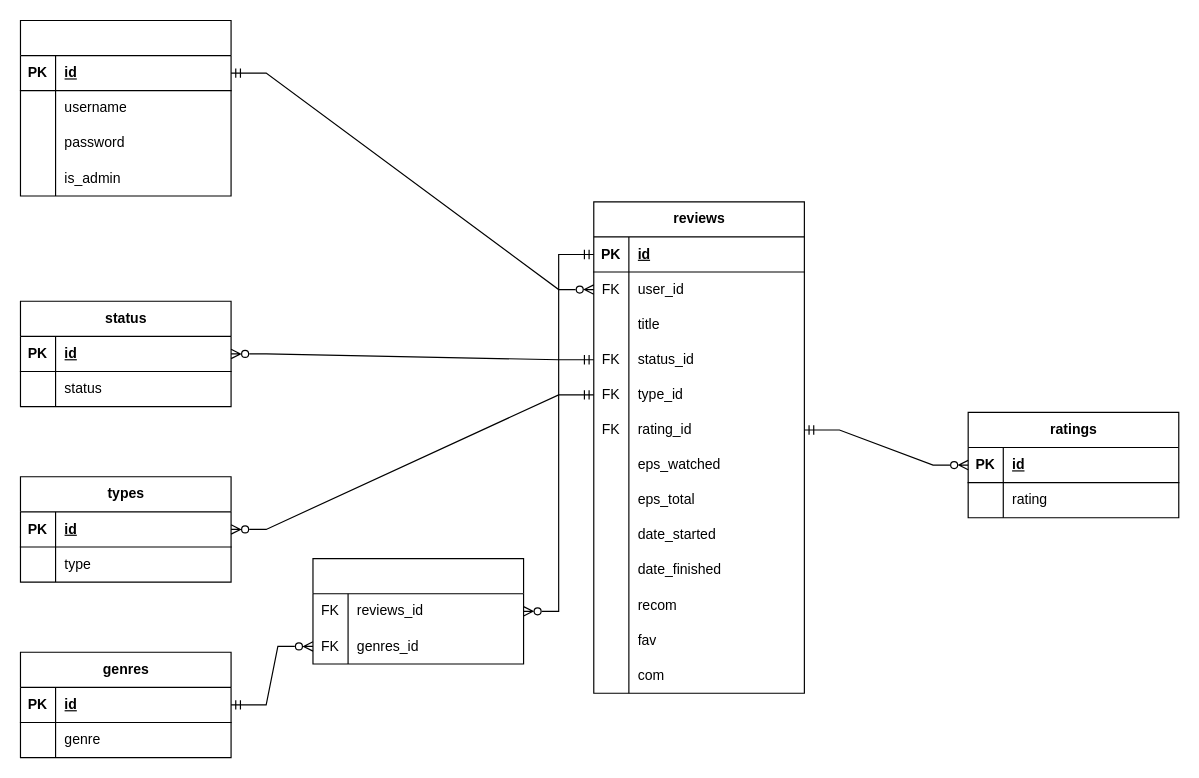
Some shapes in this 1199 by 778 pixel diagram are drawn without their labels. Here are the shapes that lost their labels. From the top down, the box of each, then its label:
(19, 19, 231, 196): users
(312, 558, 524, 664): reviews_genres
